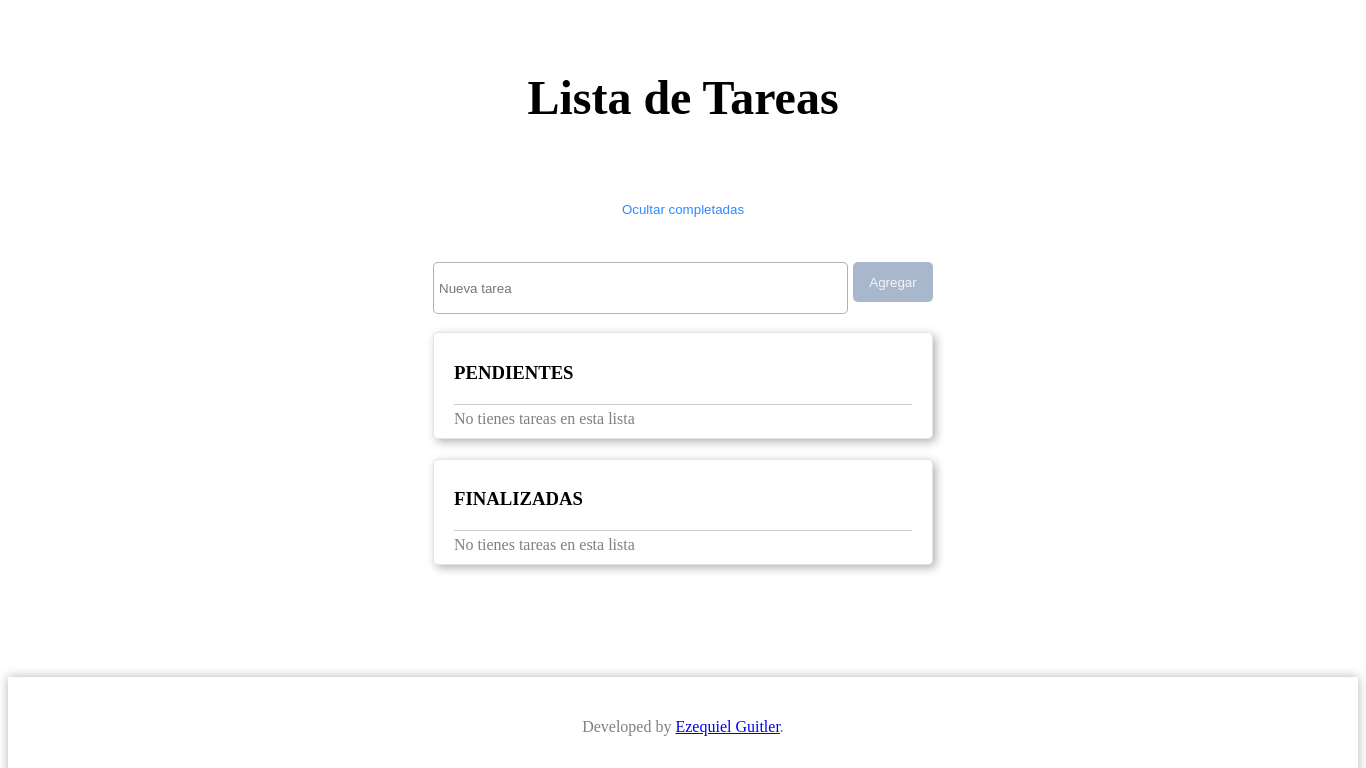
it: renders the correct message in the button to hide/show done tasks
Click the button "Ocultar completadas" at (683, 210), box [611, 187, 755, 232]
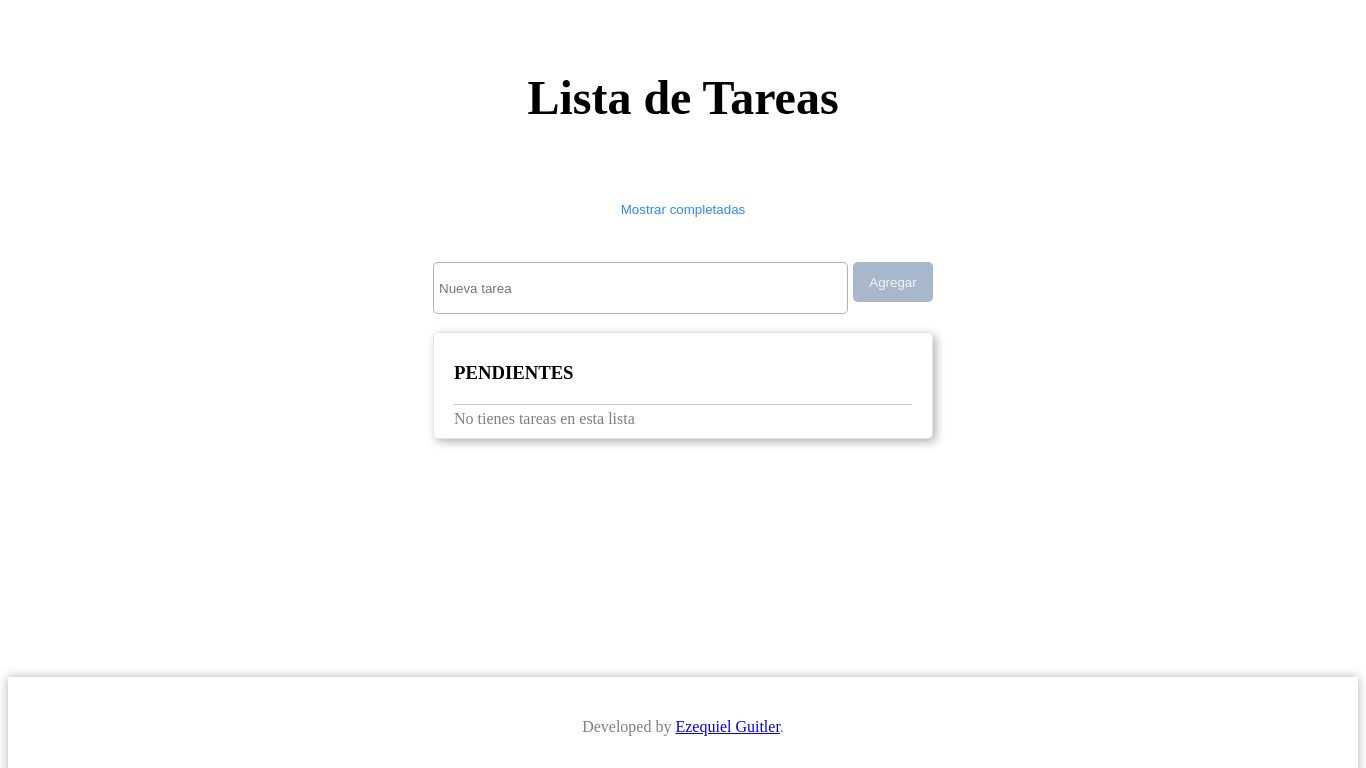
Result: the button "Mostrar completadas" is shown
Click the button "Mostrar completadas" at (683, 210), box [610, 187, 756, 232]
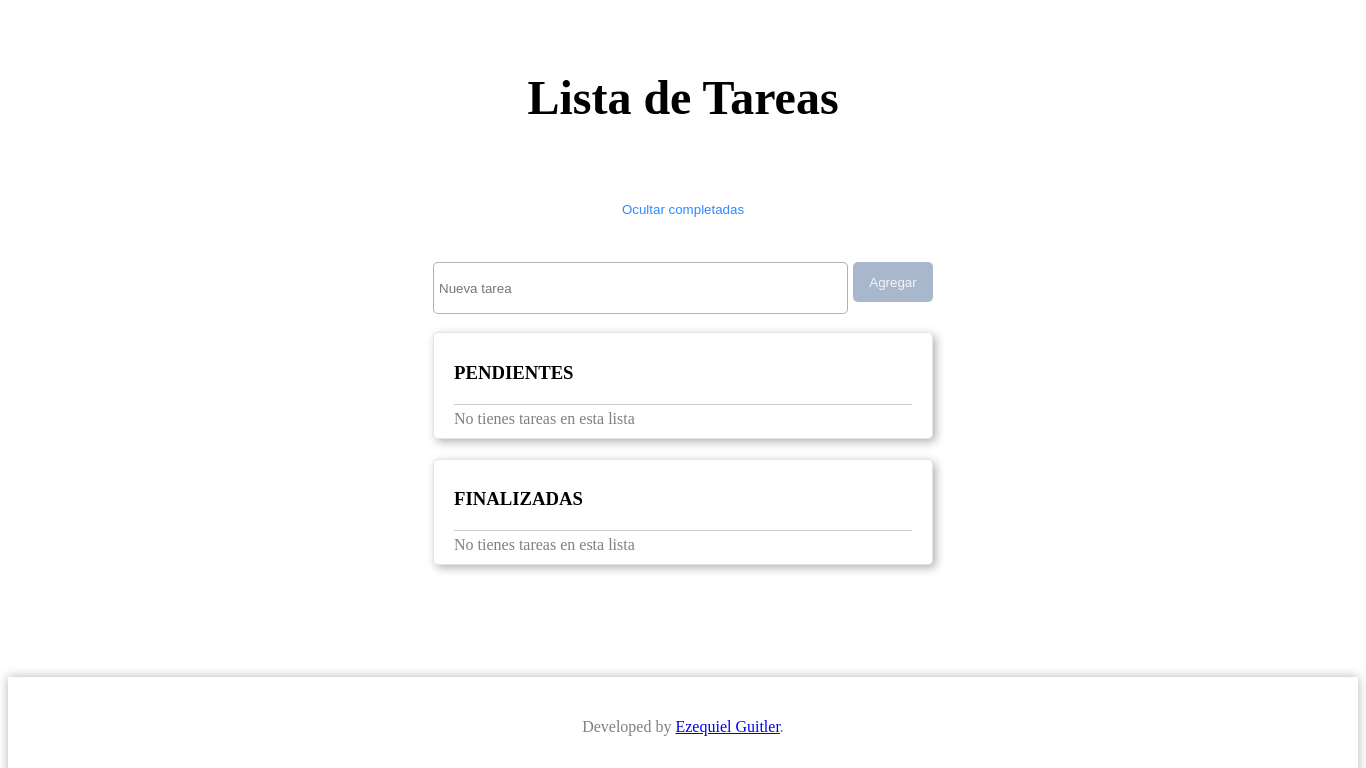
Result: the button "Ocultar completadas" is shown at [611, 187, 755, 232]
